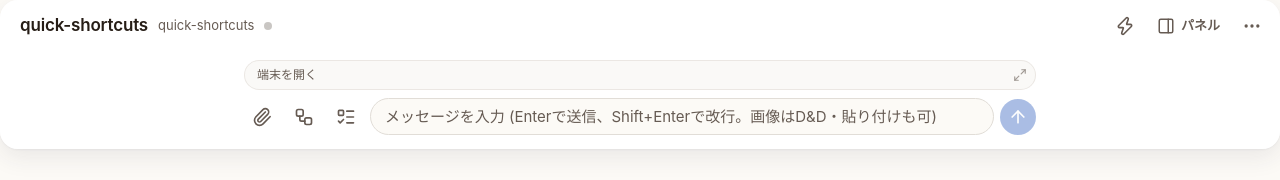
it: PC上部バーの1タップ操作と、端末の窓の操作 › ショートカットのボタンは1タップで一覧を出す
Click the button named "メッセージのショートカット". click: point(1125, 26)
box: [1109,10,1141,42]
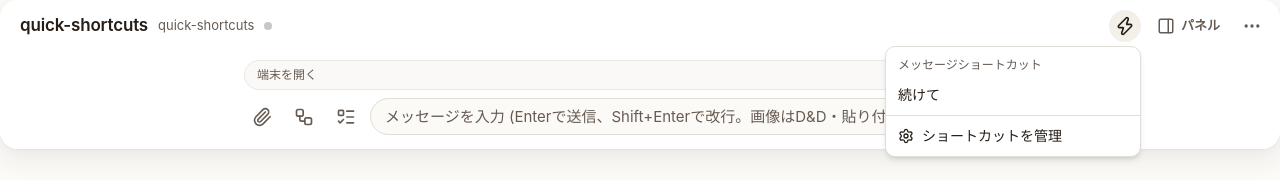
expect the menu shows "続けて": met, box [898,86,940,103]
